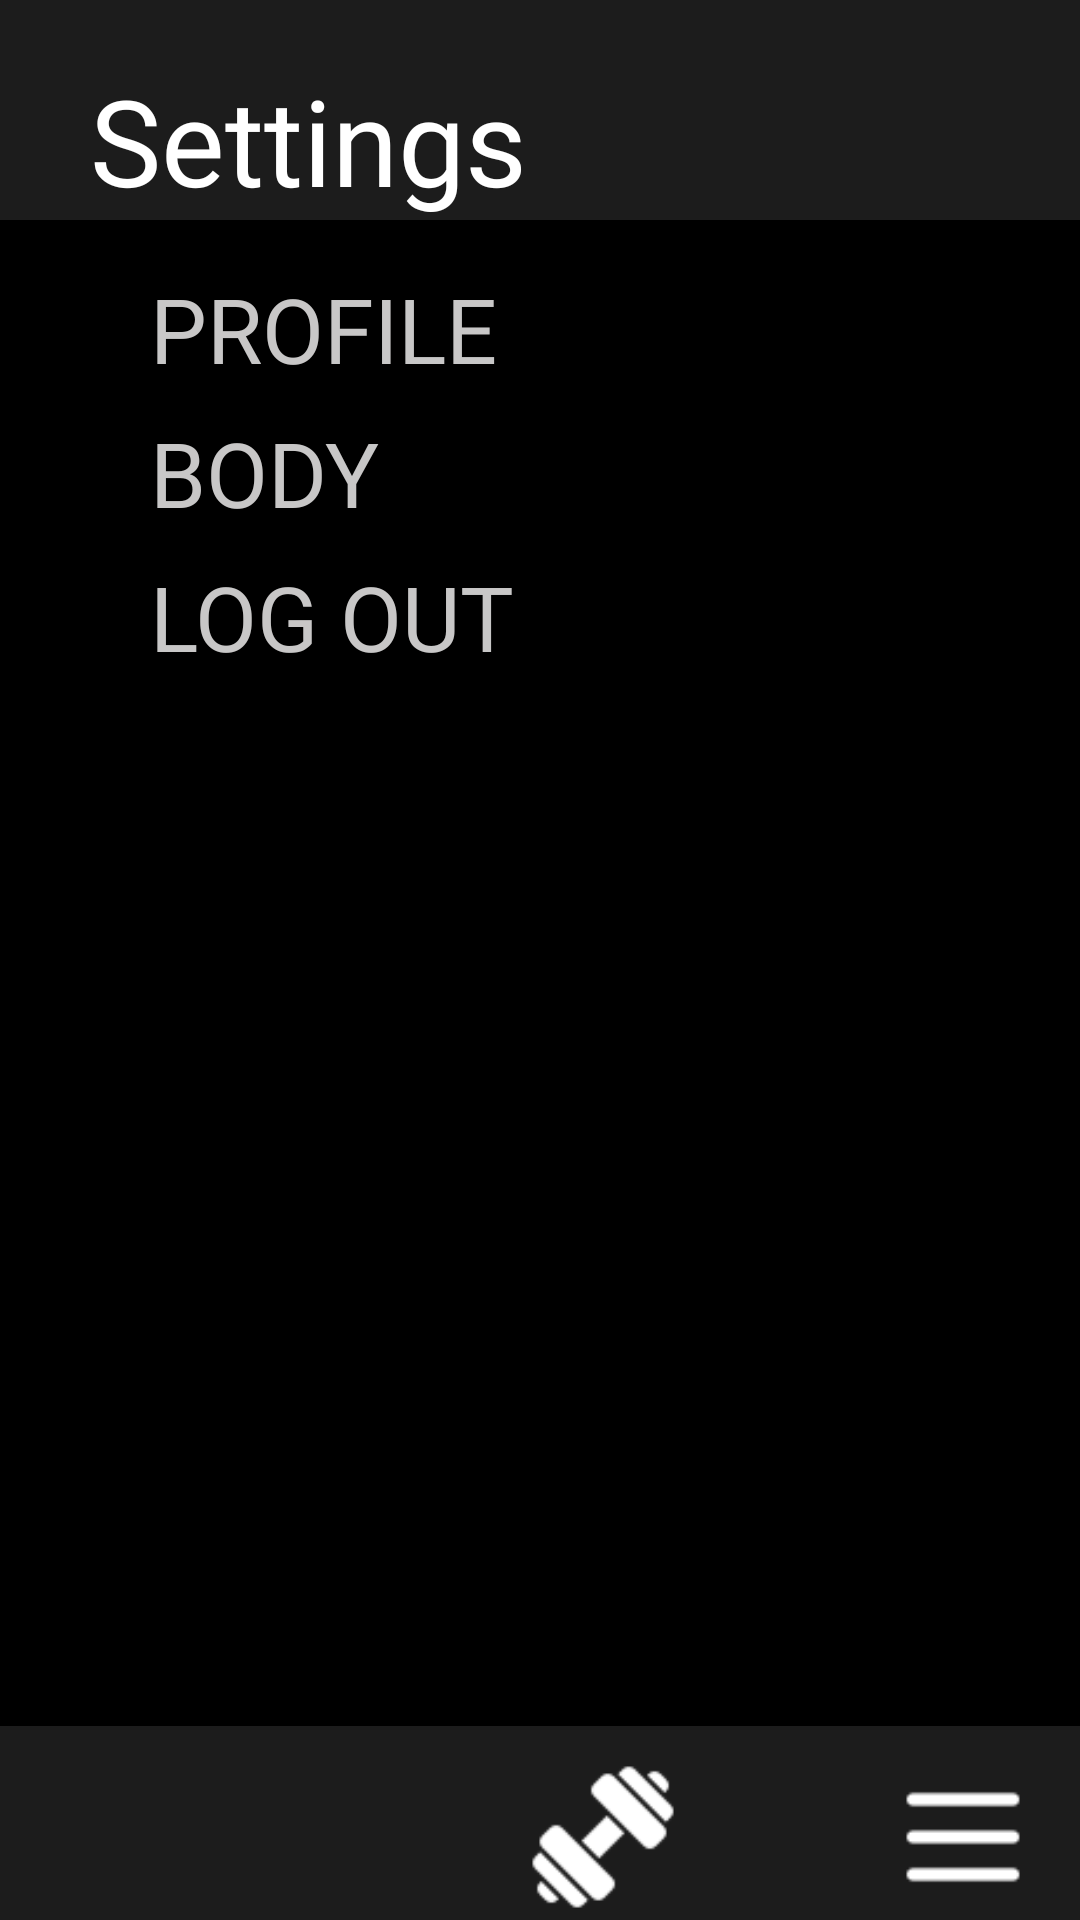

Icons on this 1080w x 1920h Android screen, each with the point to tap as (x=x, y=y):
exerciseicon: (x=603, y=1837)
menu: (x=963, y=1837)
